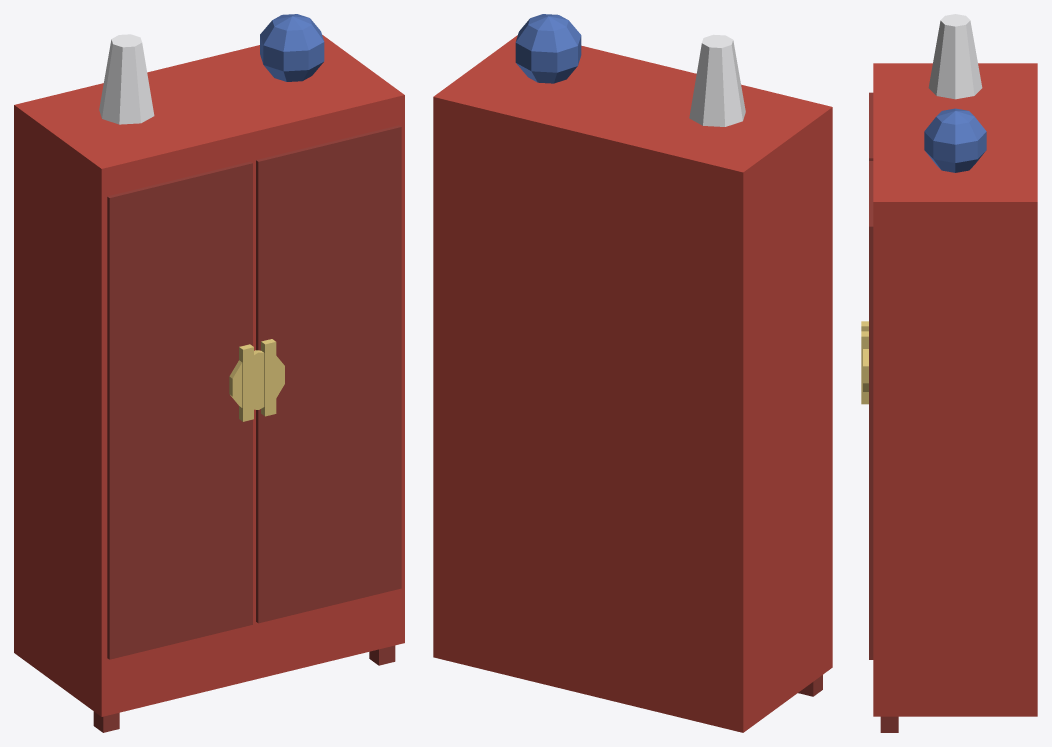
Rendered from cn_cabinet.glb.
3 renders of one model, left to right at view 1: azimuth 30°, elevation 25°; view 2: azimuth 150°, elevation 25°; view 3: azimuth 270°, elevation 25°, orthographic. The views are drawn at different scales.
Visible parts, largest first — view 1: cn_cabinet; view 2: cn_cabinet; view 3: cn_cabinet.
Boxes of the visible parts, <box> form: cn_cabinet: <box>14,14,404,732</box>; cn_cabinet: <box>433,14,832,732</box>; cn_cabinet: <box>861,14,1037,732</box>.
Bounding box in the file's own units: 1.1 × 2.24 × 0.5901.
